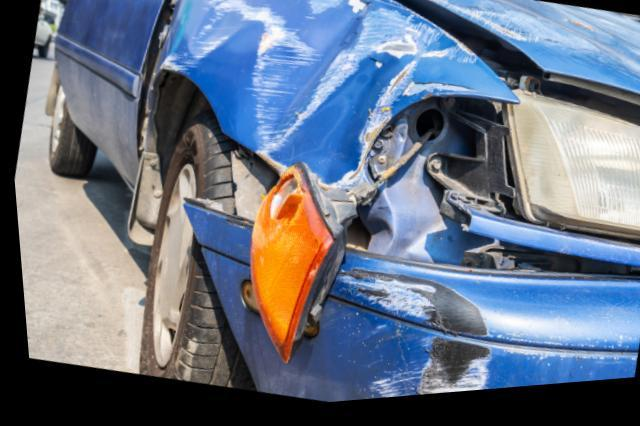dent: (279, 59, 407, 193)
dislocated part: (159, 210, 640, 407), (233, 115, 514, 362), (375, 0, 640, 137)
scratch: (162, 0, 481, 193), (329, 268, 502, 405), (415, 0, 587, 59)
